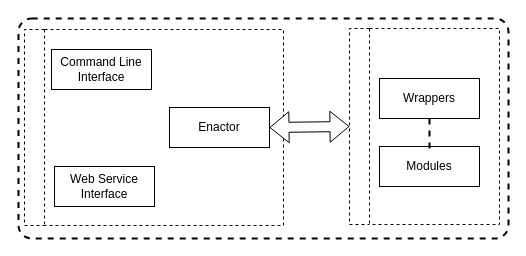
Image size: 526x256. Some labels were removed from this diagram. The shapes that lost their labels are listed below. From the top down, each one's box as (x1, y1, x2, y2) in pixels, then its label:
(24, 28, 284, 226): alvis core
(348, 28, 500, 224): alvis bibliome
